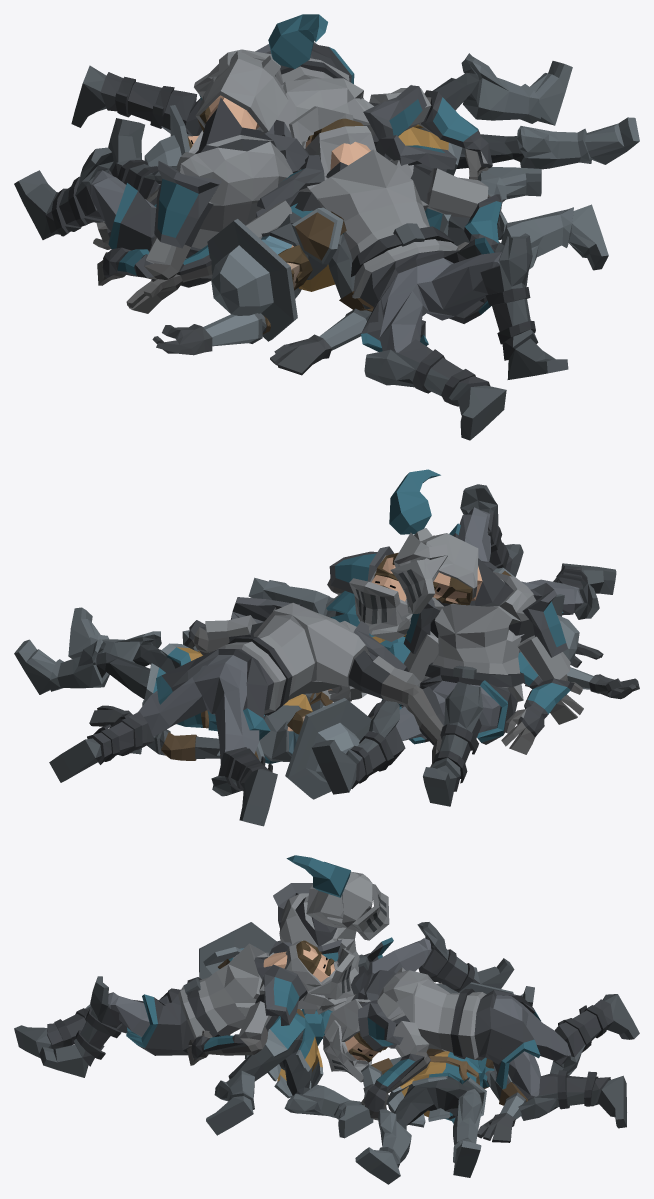
File: prop_dead_pile.gltf
3 renders of one model, top to bottom at view 1: azimuth 30°, elevation 25°; view 2: azimuth 150°, elevation 25°; view 3: azimuth 270°, elevation 25°, orthographic. The views are drawn at different scales.
Parts seen in each view (by area): view 1: prop_dead_pile; view 2: prop_dead_pile; view 3: prop_dead_pile.
Part boxes in pixels (x1,y1,x2,y2): prop_dead_pile: (14,14,639,440); prop_dead_pile: (14,469,639,826); prop_dead_pile: (14,855,639,1184).
Bounding box in the file's own units: 2.53 × 1.23 × 3.19.
1 material, 1 textured.
